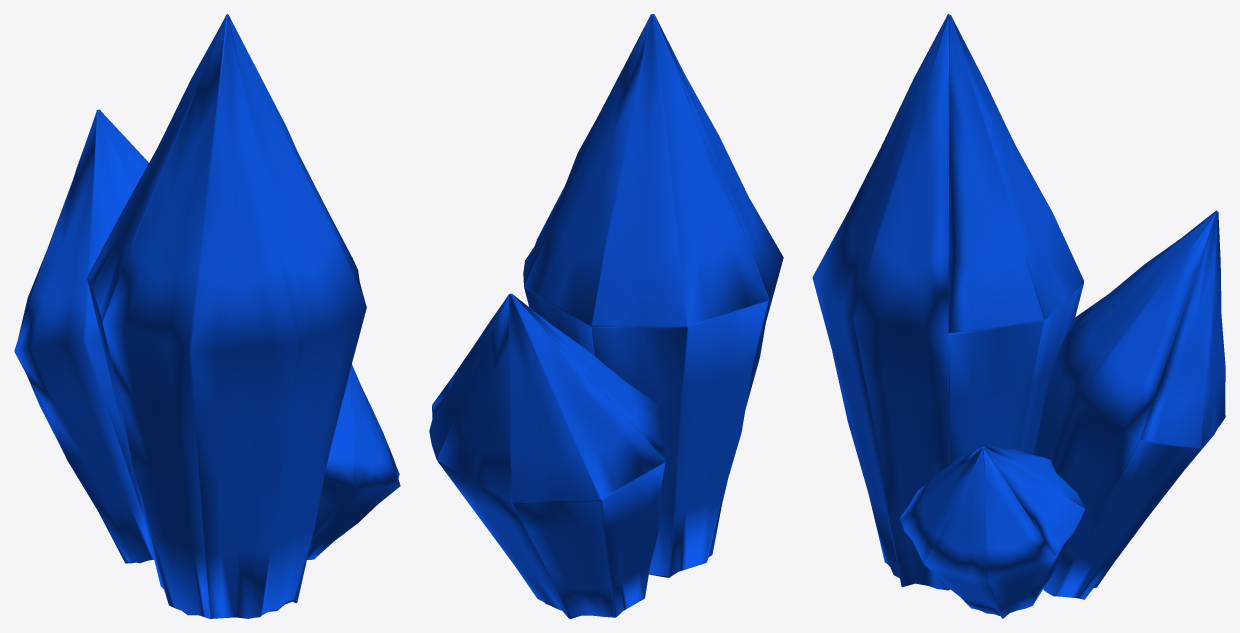
Rendered from CrystalBlue.fbx.
The picture shows the model from 3 angles, left to right: view 1: azimuth 30°, elevation 25°; view 2: azimuth 150°, elevation 25°; view 3: azimuth 270°, elevation 25°; orthographic projection. The views are drawn at different scales.
Visible parts, largest first — view 1: Crystal_Middle, Crystal_Middle.001, Crystal_Middle.002; view 2: Crystal_Middle, Crystal_Middle.001; view 3: Crystal_Middle, Crystal_Middle.001, Crystal_Middle.002.
Part boxes in pixels (x1,y1,x2,y2): Crystal_Middle: (87,14,366,618); Crystal_Middle.001: (14,109,154,563); Crystal_Middle.002: (307,364,400,559); Crystal_Middle: (523,14,783,577); Crystal_Middle.001: (429,293,665,618); Crystal_Middle: (812,14,1083,590); Crystal_Middle.001: (1033,210,1225,599); Crystal_Middle.002: (900,446,1085,618).
Bounding box in the file's own units: 518 × 949 × 625.
